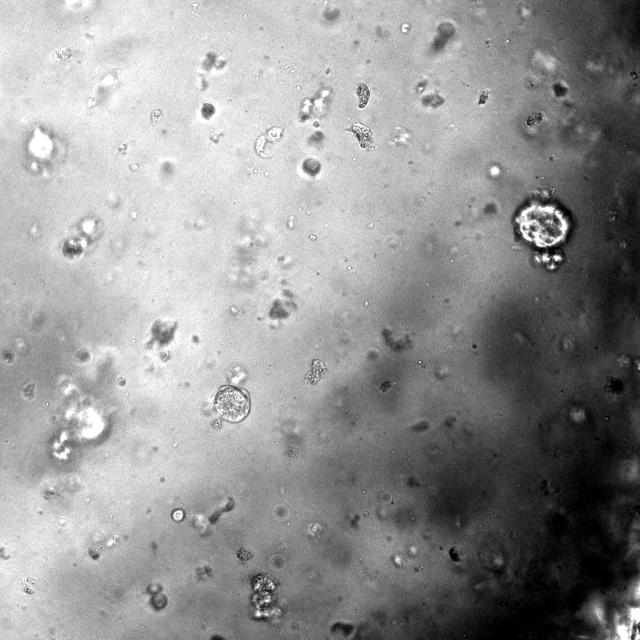organoid: (512, 189, 572, 271), (254, 111, 284, 158), (214, 385, 250, 422), (252, 574, 278, 611), (304, 358, 327, 385), (146, 583, 168, 610), (62, 235, 86, 259), (349, 123, 372, 147), (302, 157, 321, 176), (356, 83, 369, 109), (236, 547, 254, 563), (526, 113, 543, 126), (201, 103, 214, 119), (211, 417, 222, 430)
